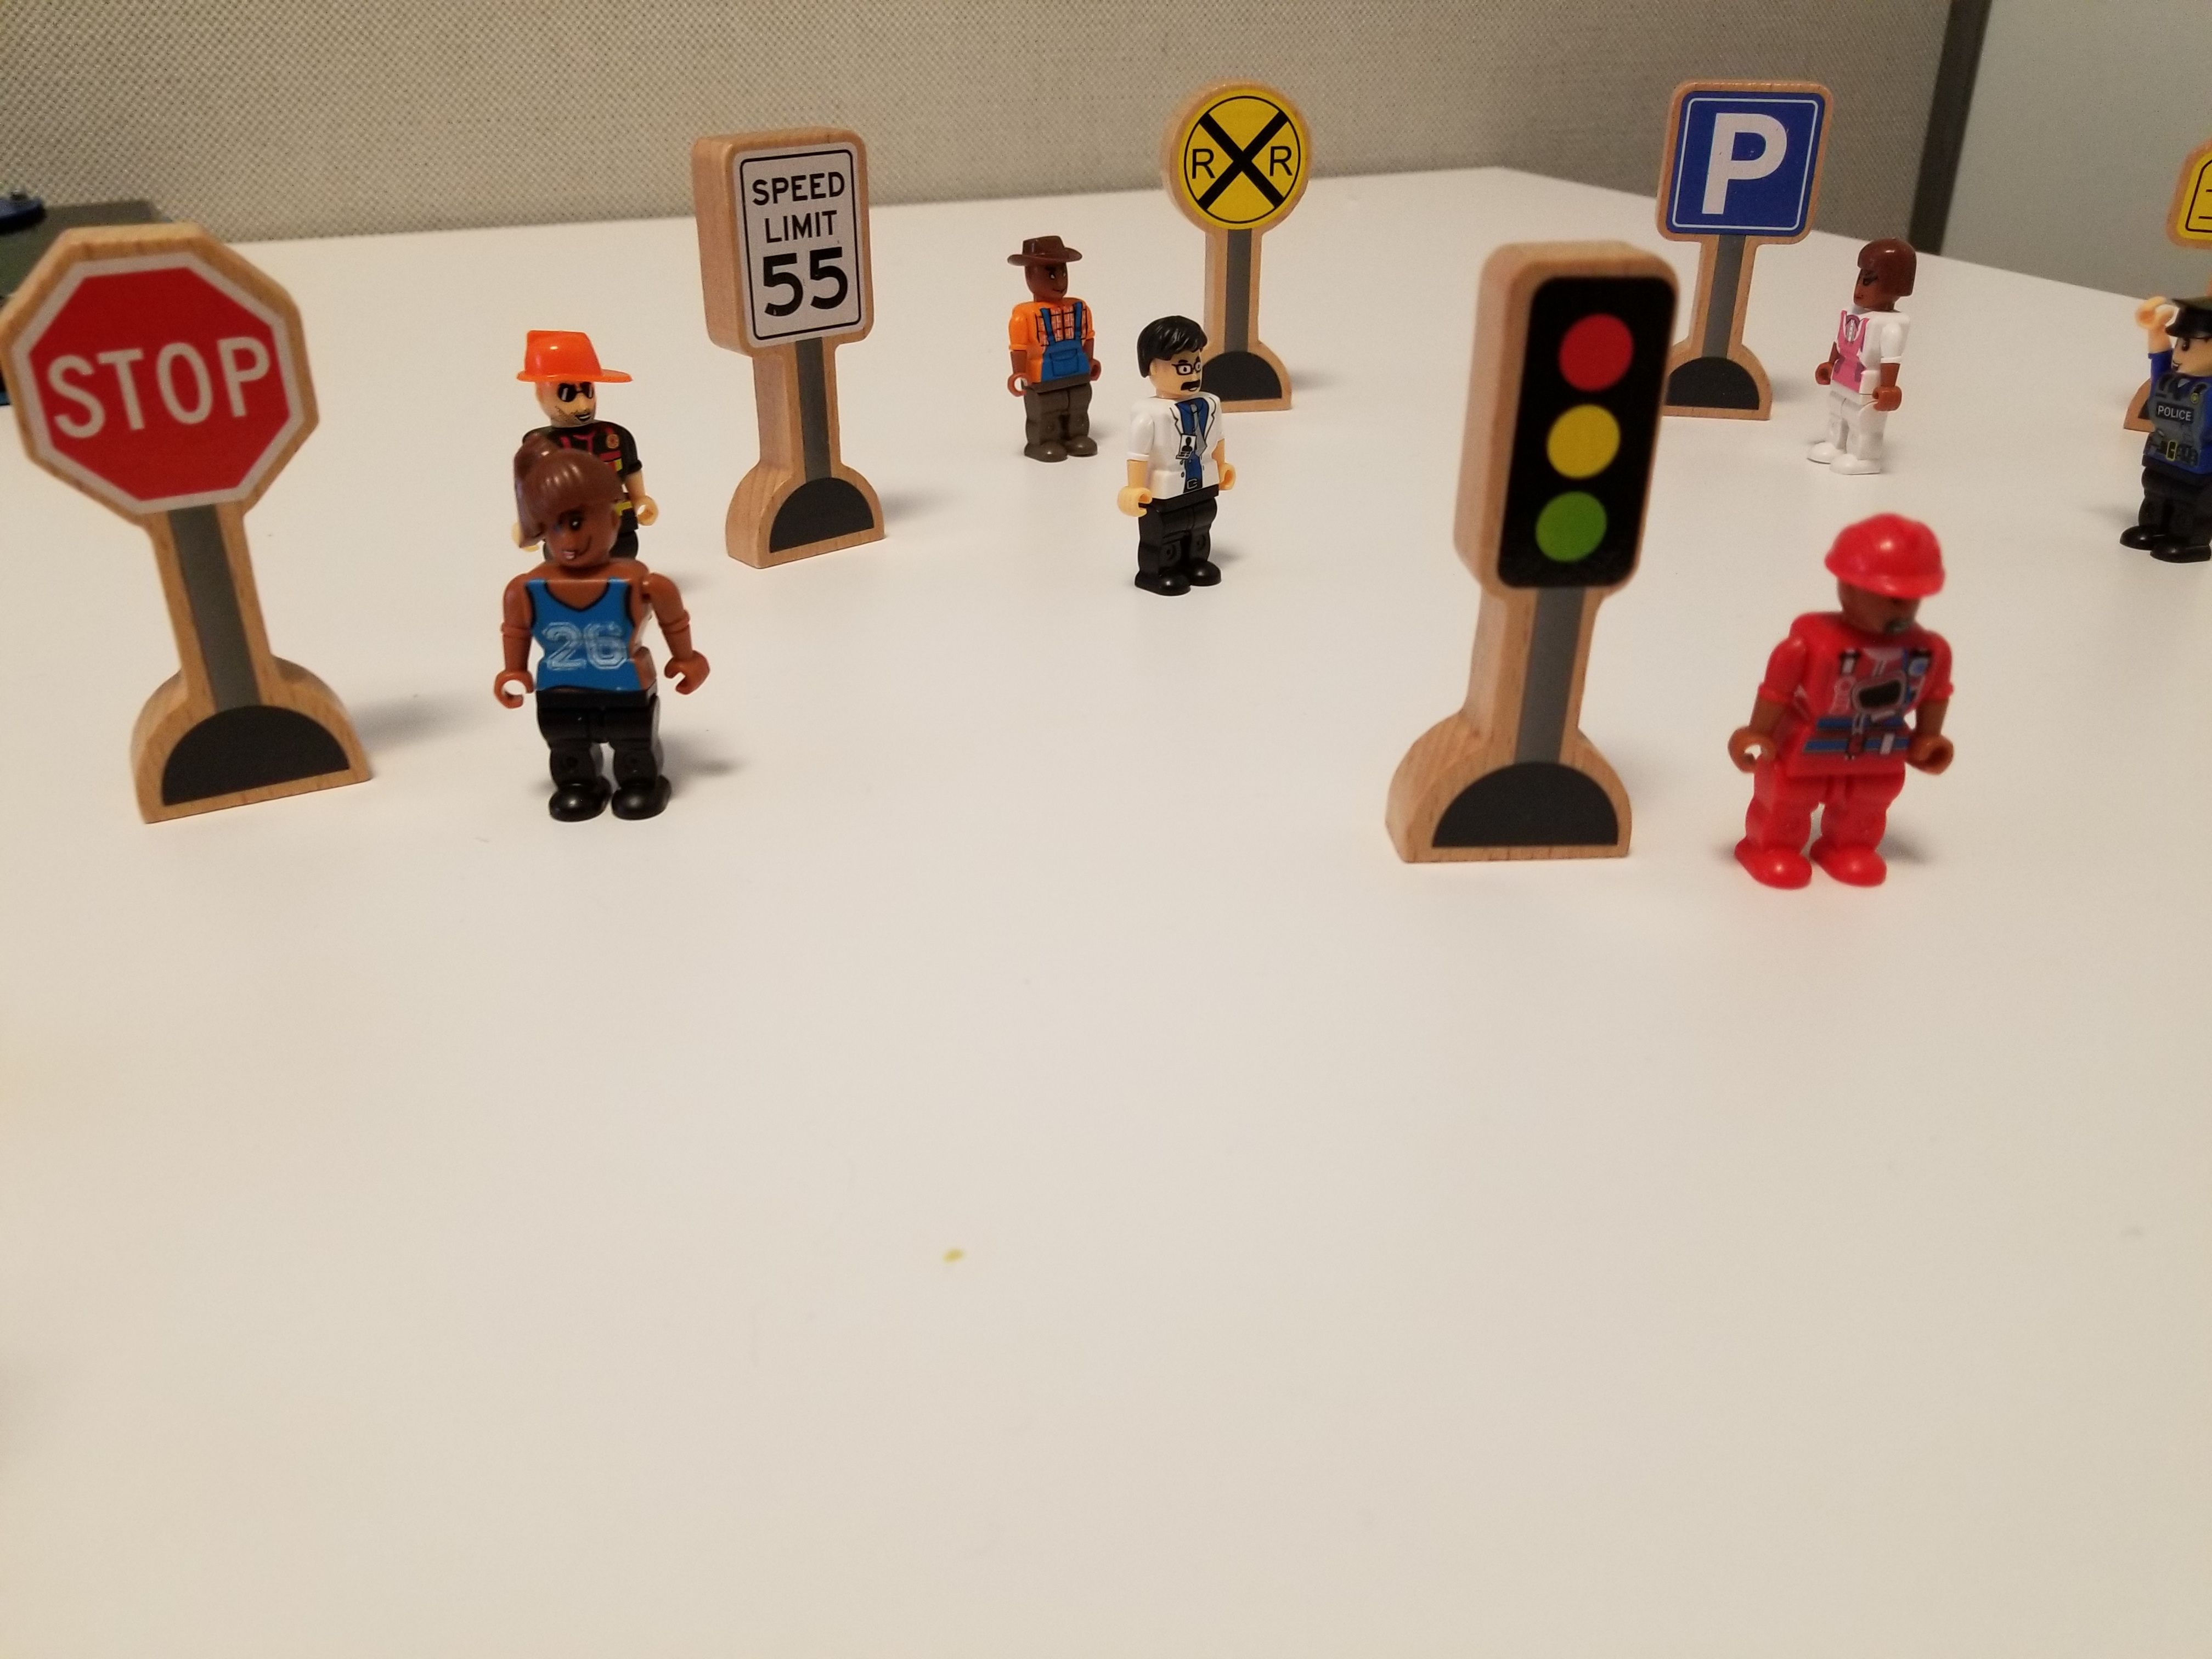Parking: (1662, 74, 1831, 308)
Railroad Crossing: (1153, 67, 1333, 330)
Speed limit 55: (686, 117, 940, 611)
Stop: (8, 218, 433, 929)
Traffic Light: (1412, 227, 1686, 910)
person: (1739, 508, 1965, 947), (488, 462, 721, 833), (1120, 308, 1237, 635), (984, 199, 1107, 473), (2106, 282, 2212, 577), (1831, 212, 1937, 473), (484, 315, 681, 453)
